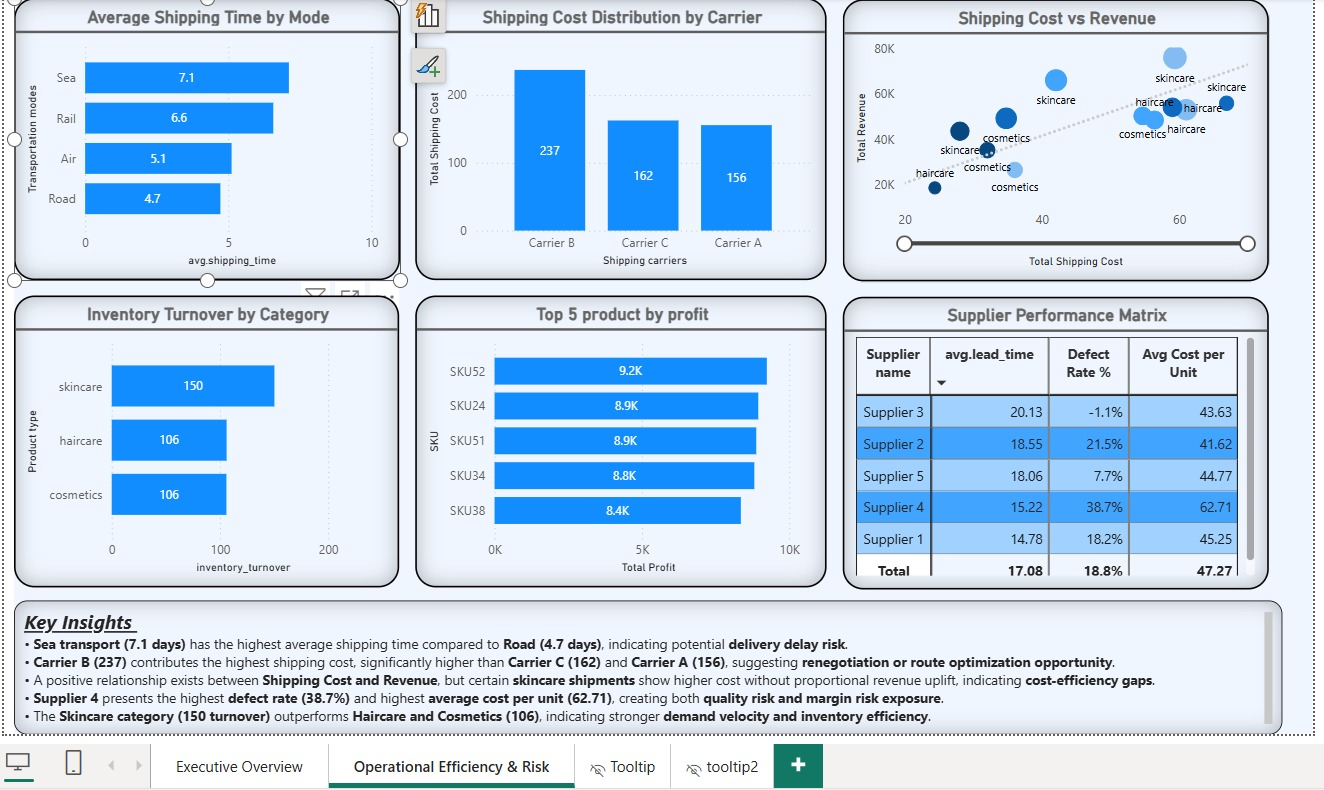

The page's visual inventory and layout, read from the dashboard file:
{"tool":"powerbi","page":{"name":"Operational Efficiency & Risk","canvas":[1280,720],"ordinal":1},"visuals":[{"type":"textbox","box":[9.8,0,1270.5,720.2],"z":0},{"type":"clusteredBarChart","title":"Average Shipping Time by Mode","fields":{"Category":["supply_chain.Transportation modes"],"Y":["supply_chain.avg.shipping_time"]},"box":[9.8,0,377.9,276.4],"z":1000},{"type":"clusteredColumnChart","title":"Shipping Cost Distribution by Carrier","fields":{"Category":["supply_chain.Shipping carriers"],"Y":["supply_chain.Total Shipping Cost"]},"box":[402.3,0,402.3,276.4],"z":2000},{"type":"scatterChart","title":"Shipping Cost vs Revenue","fields":{"X":["supply_chain.Total Shipping Cost"],"Y":["supply_chain.Total Revenue"],"Size":["supply_chain.Total Profit"],"Series":["supply_chain.Transportation modes"],"Category":["supply_chain.Product type"]},"box":[820.5,1.8,416.5,275.9],"z":3000},{"type":"clusteredBarChart","title":"Inventory Turnover by Category","fields":{"Category":["supply_chain.Product type"],"Y":["supply_chain.inventory_turnover"]},"box":[10,291.6,376.9,285.9],"z":4000},{"type":"pivotTable","title":"Supplier Performance Matrix","fields":{"Rows":["supply_chain.Supplier name"],"Values":["supply_chain.avg.lead_time","supply_chain.Defect Rate %","supply_chain.Avg Cost per Unit"]},"box":[820.5,291.9,416.5,286.5],"z":5000},{"type":"textbox","box":[9.8,589.4,1241.2,130.8],"z":6000},{"type":"clusteredBarChart","title":"Top 5 product by profit","fields":{"Category":["supply_chain.SKU"],"Y":["supply_chain.Total Profit"]},"box":[402.5,291.6,402.5,285.9],"z":7000}]}

Visuals, with their boxes in screenshot pixels (x1, y1, x2, y2):
textbox: [left=10, top=0, right=1306, bottom=731]
"Average Shipping Time by Mode" clusteredBarChart: [left=10, top=0, right=395, bottom=279]
"Shipping Cost Distribution by Carrier" clusteredColumnChart: [left=410, top=0, right=821, bottom=279]
"Shipping Cost vs Revenue" scatterChart: [left=837, top=0, right=1262, bottom=280]
"Inventory Turnover by Category" clusteredBarChart: [left=10, top=294, right=395, bottom=586]
"Supplier Performance Matrix" pivotTable: [left=837, top=294, right=1262, bottom=587]
textbox: [left=10, top=598, right=1276, bottom=731]
"Top 5 product by profit" clusteredBarChart: [left=411, top=294, right=821, bottom=586]
